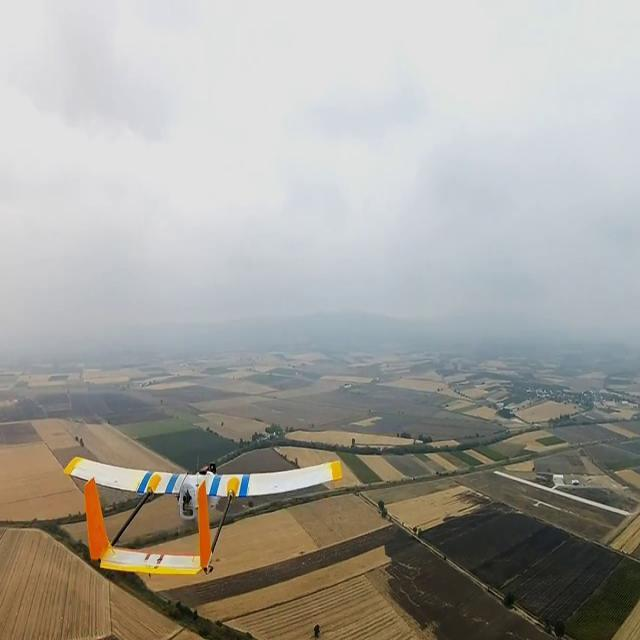iha: (57, 402, 357, 619)
